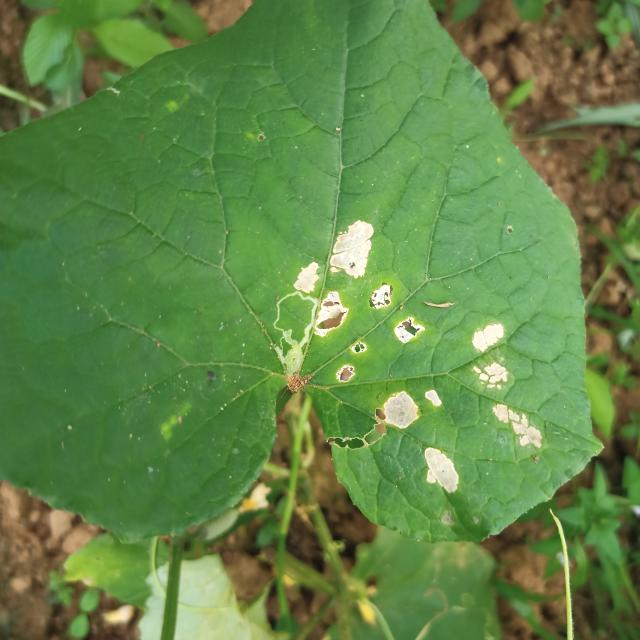disease_cucumber: (294, 220, 458, 492), (472, 311, 544, 448)
